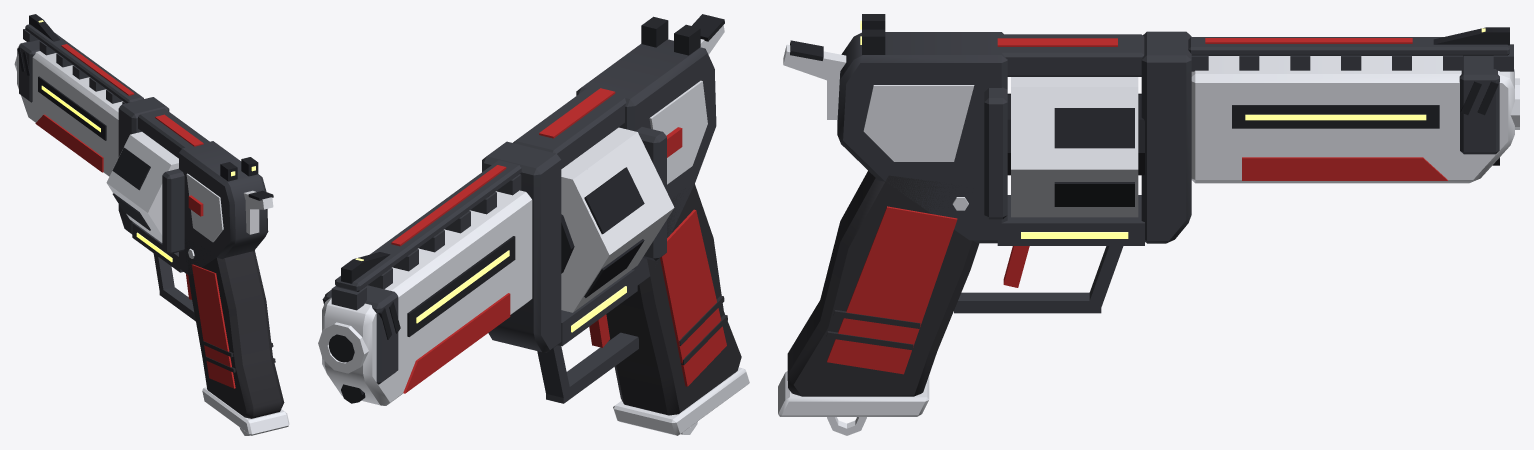
File: HandCannon.glb
3 views of the same model, side by side, from view 1: azimuth 30°, elevation 25°; view 2: azimuth 150°, elevation 25°; view 3: azimuth 270°, elevation 25° (orthographic). The views are drawn at different scales.
Visible parts, largest first — view 1: Grip, FrameRear, Barrel, GripInlay, Cylinder2, RecoilShield, SidePlate-1, TopStrap, RibTop, FrameFront, GripCap, LugStripe-1 (+16 smaller); view 2: Barrel, Grip, FrameFront, FrameRear, GripInlay, Cylinder2, TopStrap, Cylinder0, RibTop, SidePlate-1, GripCap, LugStripe-1 (+22 smaller); view 3: Barrel, FrameRear, Grip, GripInlay, FrameFront, Cylinder0, SidePlate1, TopStrap, LugStripe1, RibTop, Cylinder2, Fuller1 (+17 smaller).
Boxes of the visible parts, bbox=[...] form: Grip: bbox=[184, 239, 284, 418]; FrameRear: bbox=[179, 141, 268, 275]; Barrel: bbox=[17, 42, 122, 176]; GripInlay: bbox=[192, 264, 235, 388]; Cylinder2: bbox=[106, 135, 178, 217]; RecoilShield: bbox=[162, 168, 184, 254]; SidePlate-1: bbox=[186, 173, 223, 242]; TopStrap: bbox=[138, 108, 209, 158]; RibTop: bbox=[25, 24, 143, 103]; FrameFront: bbox=[118, 97, 169, 234]; GripCap: bbox=[202, 387, 289, 435]; LugStripe-1: bbox=[35, 114, 103, 172]; Barrel: bbox=[322, 190, 532, 405]; Grip: bbox=[606, 184, 741, 415]; FrameFront: bbox=[482, 141, 561, 352]; FrameRear: bbox=[576, 39, 716, 285]; GripInlay: bbox=[660, 209, 726, 386]; Cylinder2: bbox=[561, 132, 674, 254]; TopStrap: bbox=[513, 88, 626, 168]; Cylinder0: bbox=[561, 208, 673, 312]; RibTop: bbox=[335, 160, 521, 291]; SidePlate-1: bbox=[649, 80, 707, 184]; GripCap: bbox=[613, 367, 749, 435]; LugStripe-1: bbox=[403, 293, 510, 393]; Barrel: bbox=[1191, 56, 1514, 183]; FrameRear: bbox=[837, 32, 1007, 243]; Grip: bbox=[787, 171, 979, 396]; GripInlay: bbox=[827, 206, 957, 374]; FrameFront: bbox=[1141, 31, 1191, 243]; Cylinder0: bbox=[1011, 87, 1138, 169]; SidePlate1: bbox=[863, 85, 974, 161]; TopStrap: bbox=[1001, 34, 1144, 76]; LugStripe1: bbox=[1242, 157, 1447, 180]; RibTop: bbox=[1188, 37, 1509, 55]; Cylinder2: bbox=[1011, 169, 1138, 217]; Fuller1: bbox=[1232, 105, 1439, 128].
Size of the model in its own units: 0.4965 by 1.34 by 2.22.
